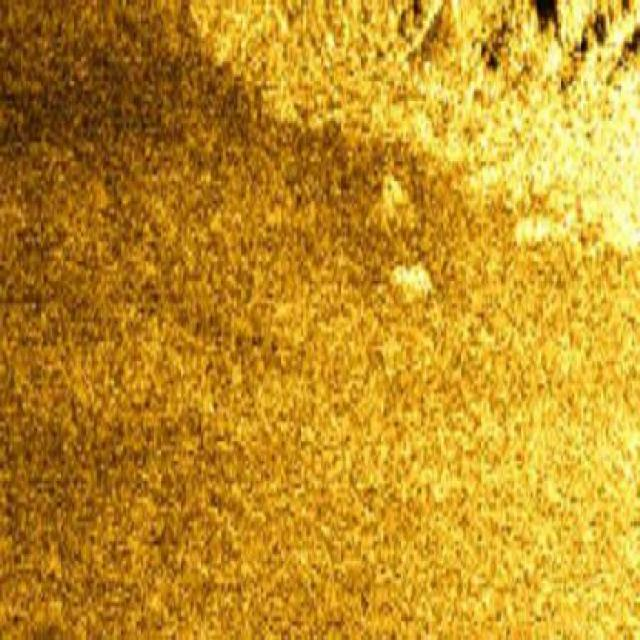bedrock group: (422, 0, 639, 98)
